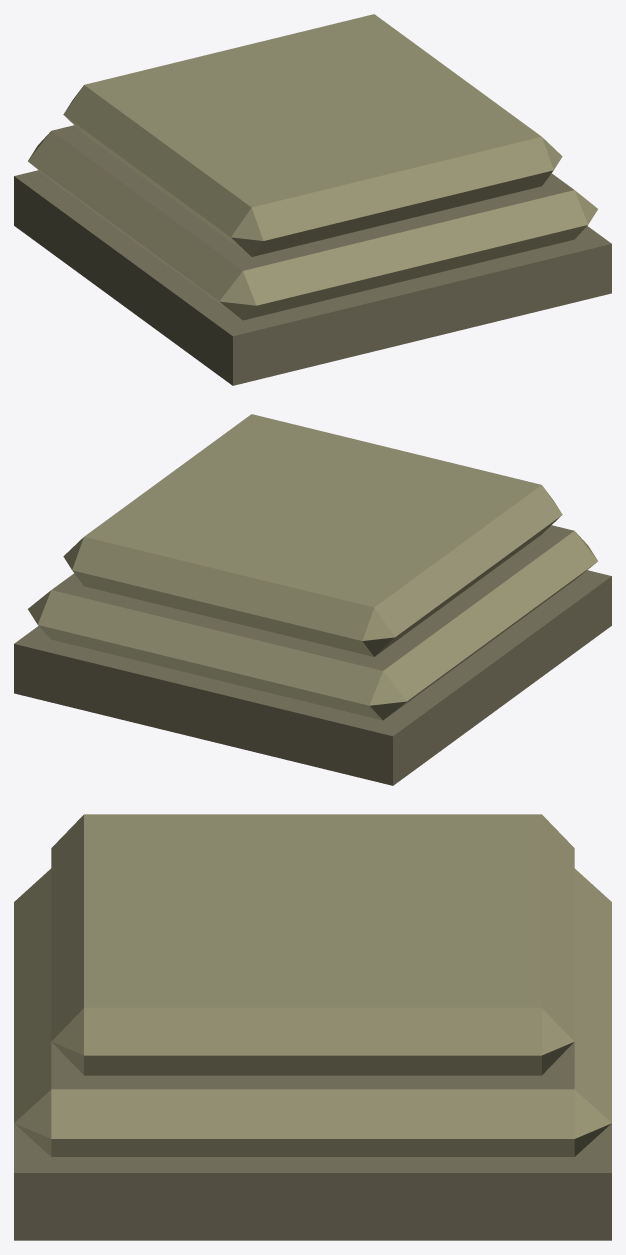
Rendered from Pillar Base.gltf.
3 views of the same model, one above another, from view 1: azimuth 30°, elevation 25°; view 2: azimuth 150°, elevation 25°; view 3: azimuth 270°, elevation 25° (orthographic). The views are drawn at different scales.
Parts seen in each view (by area): view 1: beveled_cuboid (×2), cube; view 2: beveled_cuboid (×2), cube; view 3: beveled_cuboid (×2), cube.
Boxes of the visible parts, x1=… form: beveled_cuboid (×2): x1=28, y1=14, x2=597, y2=320; cube: x1=14, y1=170, x2=611, y2=385; beveled_cuboid (×2): x1=28, y1=414, x2=597, y2=720; cube: x1=14, y1=570, x2=611, y2=785; beveled_cuboid (×2): x1=14, y1=814, x2=611, y2=1156; cube: x1=14, y1=1123, x2=611, y2=1240.
Size of the model in its own units: 1 by 0.375 by 1.
Materials: 1 (1 with a texture image).
